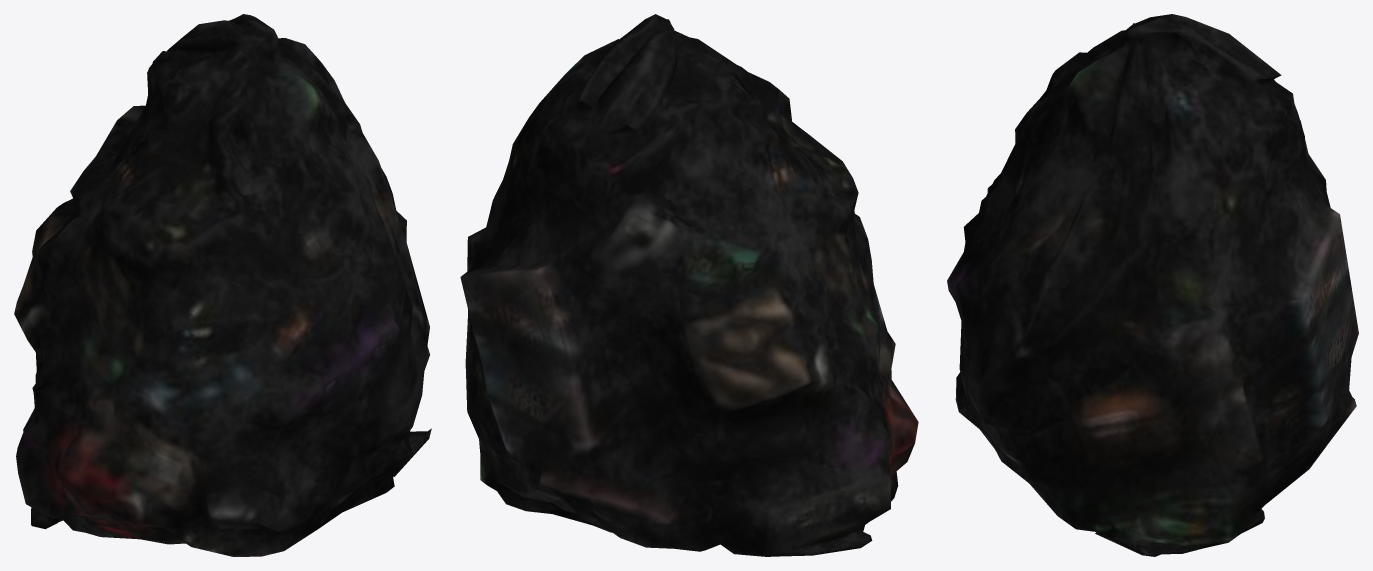
Rendered from trashbag.glb.
The picture shows the model from 3 angles, left to right: view 1: azimuth 30°, elevation 25°; view 2: azimuth 150°, elevation 25°; view 3: azimuth 270°, elevation 25°; orthographic projection. The views are drawn at different scales.
Visible parts, largest first — view 1: trashbag; view 2: trashbag; view 3: trashbag.
Part boxes in pixels (bbox=[...]): trashbag: bbox=[14, 14, 431, 556]; trashbag: bbox=[460, 14, 918, 556]; trashbag: bbox=[947, 14, 1358, 556].
Bounding box in the file's own units: 0.5281 × 0.575 × 0.4629.
Materials: 1 (1 with a texture image).
